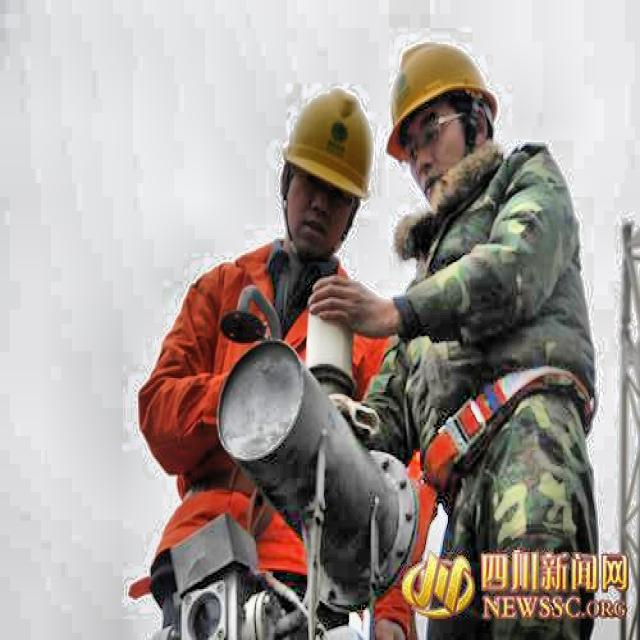helmet: (270, 74, 378, 276), (385, 35, 503, 206)
